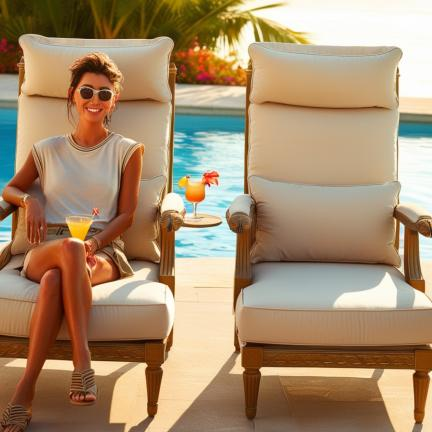empty chair: (227, 42, 432, 423)
guest on chair: (0, 35, 185, 432)
